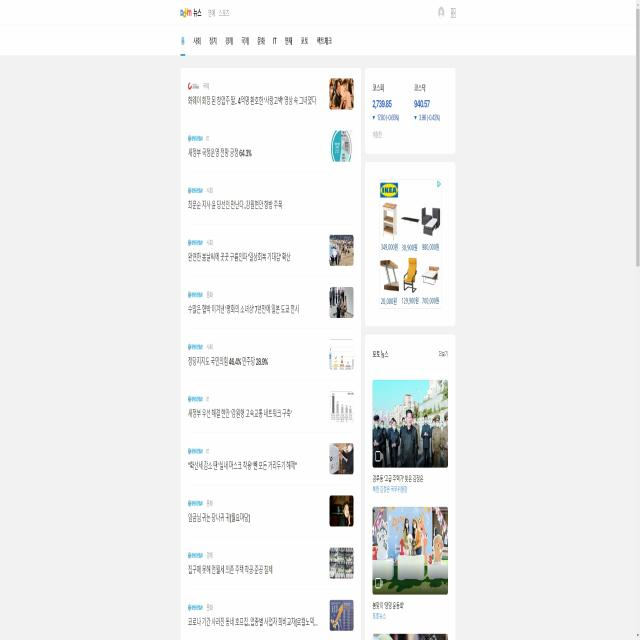menu-bar: (435, 1, 459, 22)
side-panel: (364, 68, 457, 640)
tab-bar: (178, 29, 334, 58), (178, 3, 232, 20)
